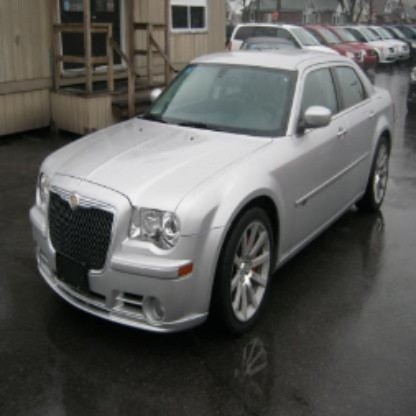Vehicle: (28, 52, 396, 340)
